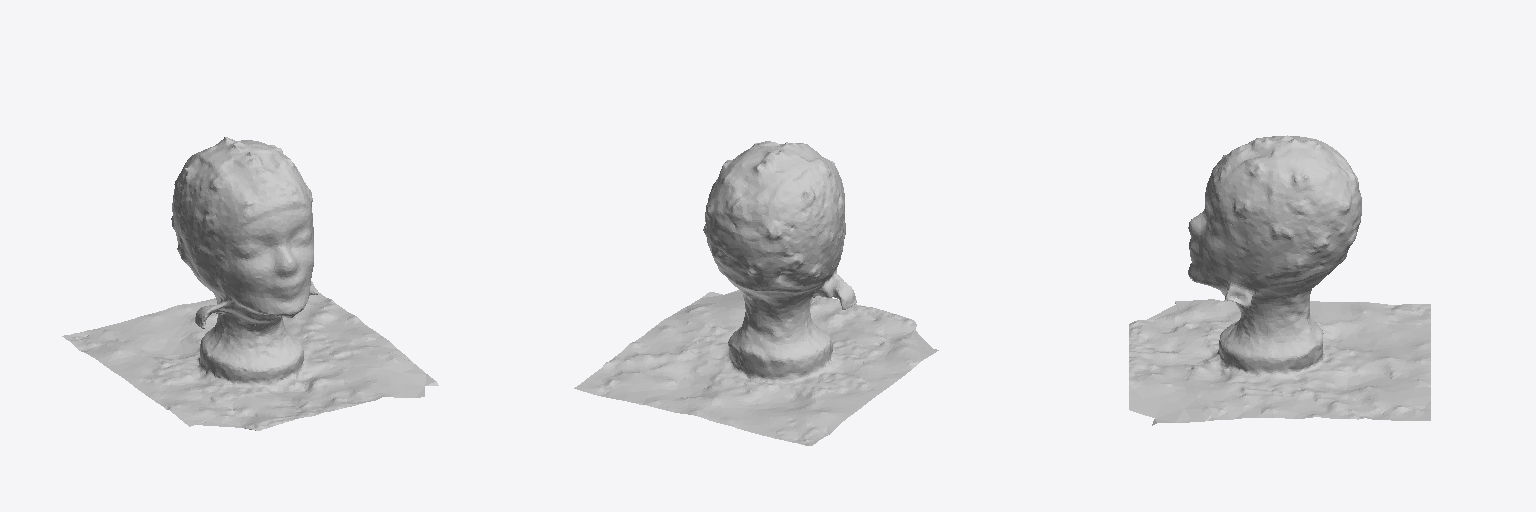
The model's file is Testmessung_3.obj.
3 views of the same model, side by side, from view 1: azimuth 30°, elevation 25°; view 2: azimuth 150°, elevation 25°; view 3: azimuth 270°, elevation 25° (orthographic).
Visible parts, largest first — view 1: mesh; view 2: mesh; view 3: mesh.
Part boxes in pixels (left/top/right/bottom): mesh: left=62, top=137, right=438, bottom=430; mesh: left=574, top=141, right=938, bottom=445; mesh: left=1129, top=135, right=1430, bottom=425.
Size of the model in its own units: 0.3249 by 0.2924 by 0.3563.